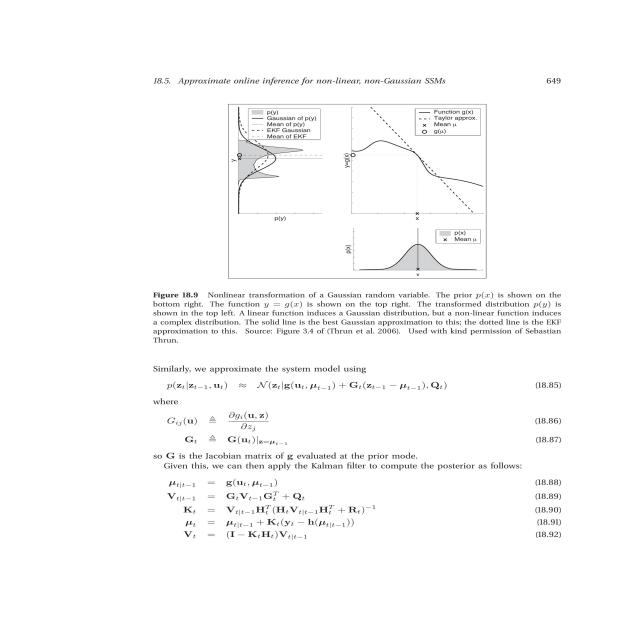diagram: (76, 90, 584, 352)
